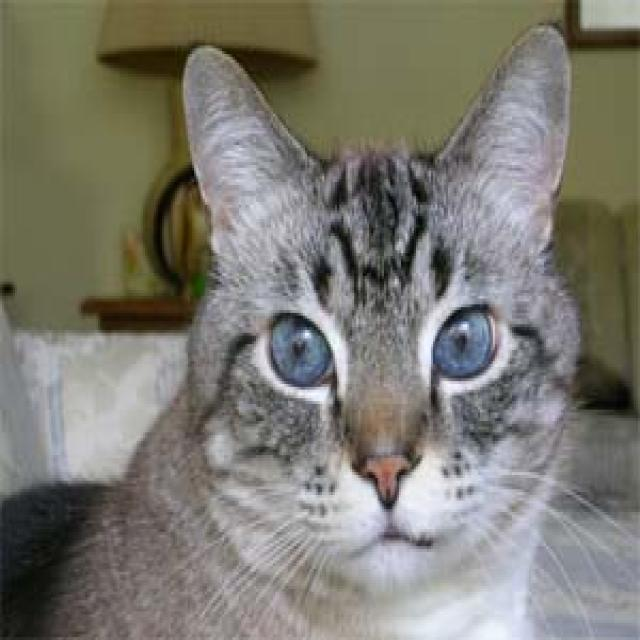Bengal: (177, 20, 576, 592)
